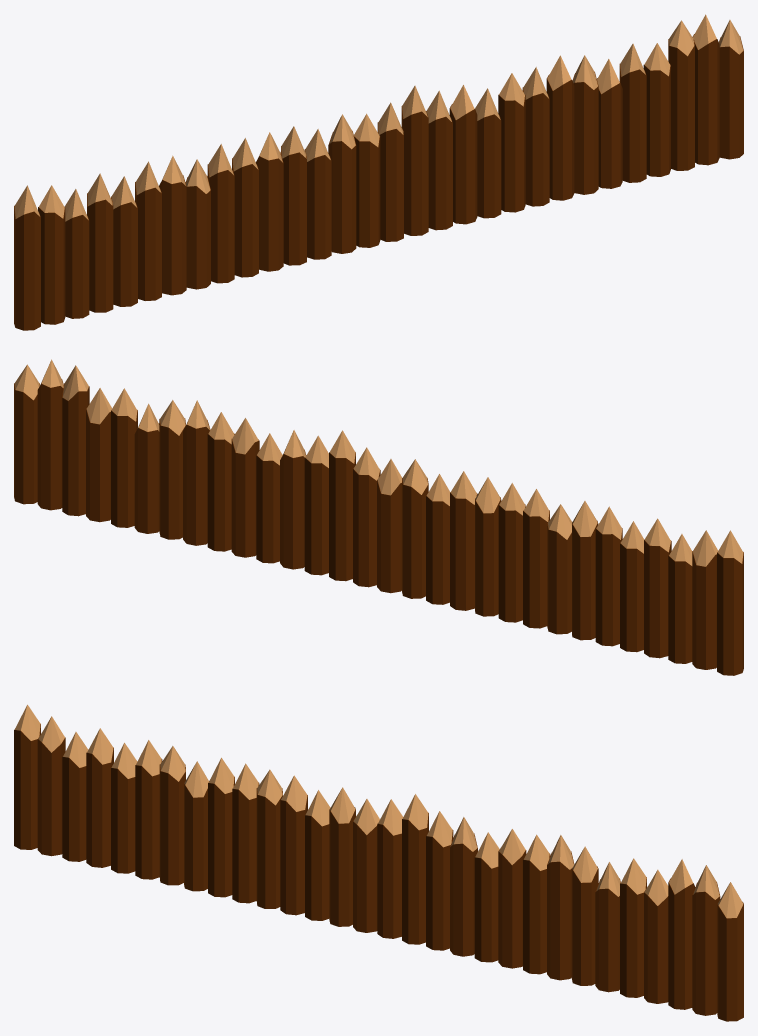
File: barriere.fbx
The picture shows the model from 3 angles, top to bottom: view 1: azimuth 30°, elevation 25°; view 2: azimuth 150°, elevation 25°; view 3: azimuth 330°, elevation 25°; orthographic projection.
Visible parts, largest first — view 1: Cylinder; view 2: Cylinder; view 3: Cylinder.
Part boxes in pixels (left/top/right/bottom): Cylinder: left=14, top=14, right=743, bottom=330; Cylinder: left=14, top=359, right=743, bottom=675; Cylinder: left=14, top=704, right=743, bottom=1021.
Size of the model in its own units: 1590 by 304 by 53.01.
